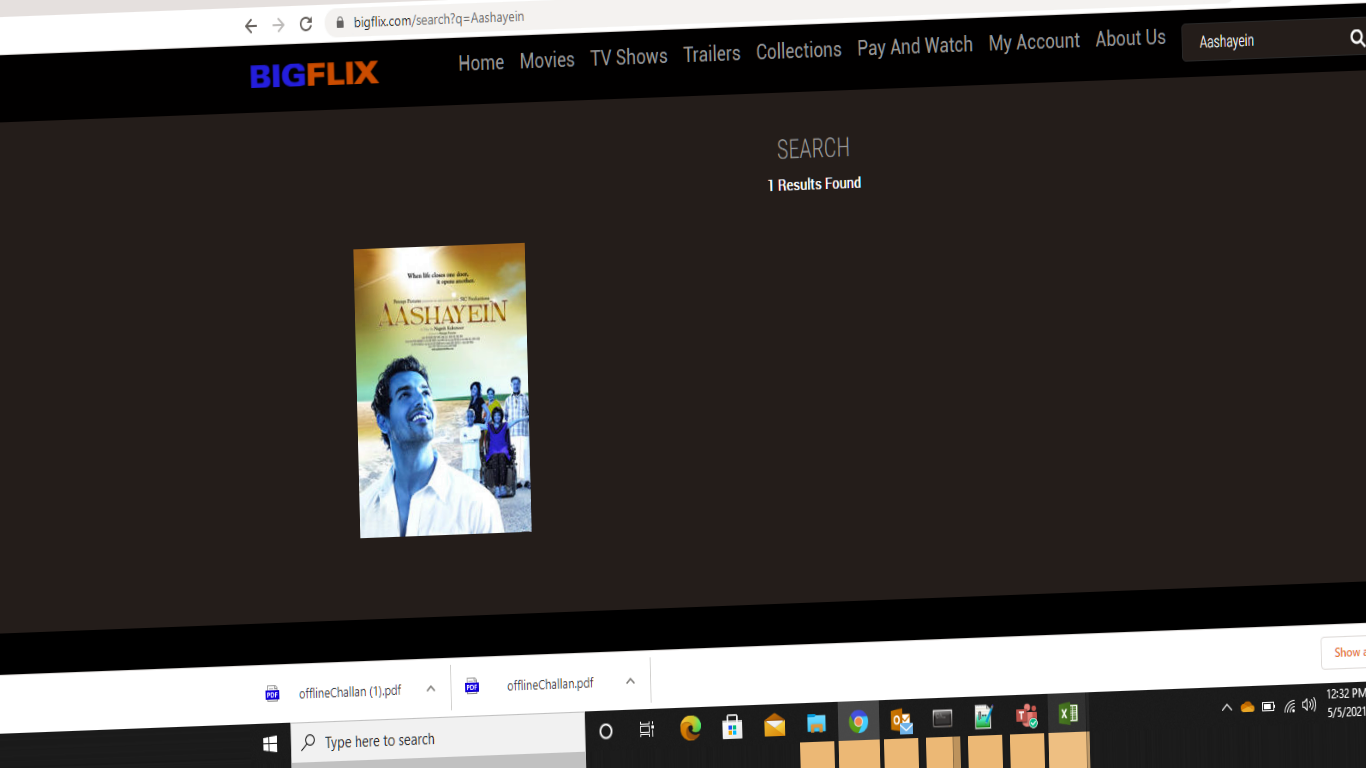myaccountbutton: (979, 23, 1090, 70)
resultsfound: (709, 129, 912, 209)
searchicon: (1330, 20, 1366, 68)
searchtextbox: (1189, 18, 1366, 68)
